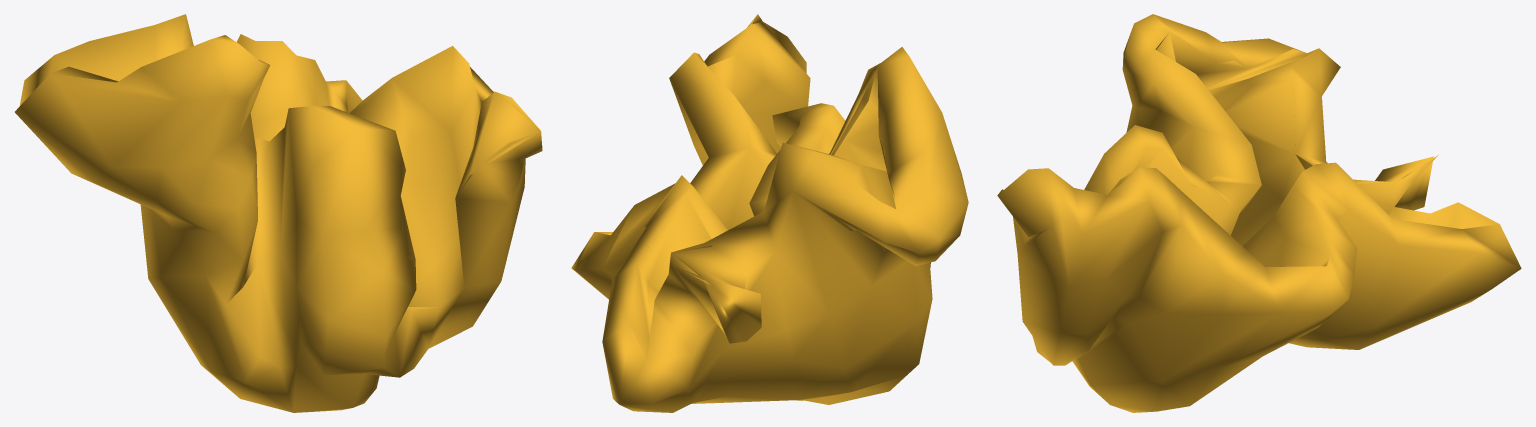
The model's file is nervoso-intraparietal-sulcus-l.glb.
The picture shows the model from 3 angles, left to right: view 1: azimuth 30°, elevation 25°; view 2: azimuth 150°, elevation 25°; view 3: azimuth 270°, elevation 25°; orthographic projection. The views are drawn at different scales.
Parts seen in each view (by area): view 1: Intraparietal sulcus.l; view 2: Intraparietal sulcus.l; view 3: Intraparietal sulcus.l.
Boxes of the visible parts, x1,y1,x2,y2 form: Intraparietal sulcus.l: (15,14,542,412); Intraparietal sulcus.l: (571,14,968,412); Intraparietal sulcus.l: (997,14,1521,412).
Size of the model in its own units: 0.0262 by 0.0256 by 0.035.
